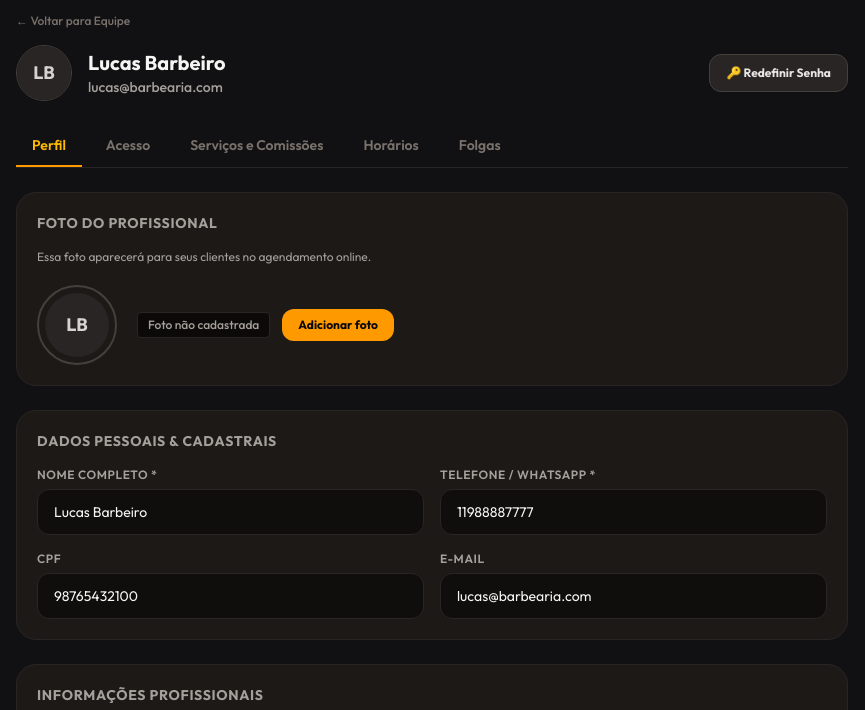
TEM BARBER — Gate P2-UX: Simplificação de Comissões › 2. Aplicação de modelo rápido preenche campo e mostra feedback sem salvar
Expected: the heading "Lucas Barbeiro" is shown, [88,49,226,77]
Click the button "Serviços e Comissões" at (257,146), box [174,125,339,167]
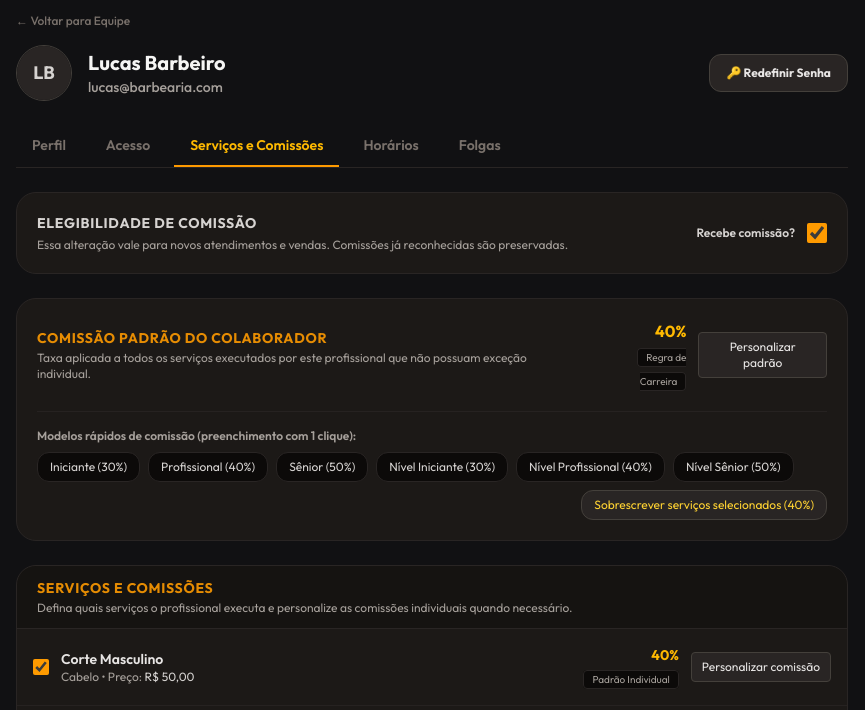
Result: the element with test id "commission-presets-section" is shown at [37,411,827,520]
Click the button "Sênior (50%)" at (322,467), box [276,452,368,482]
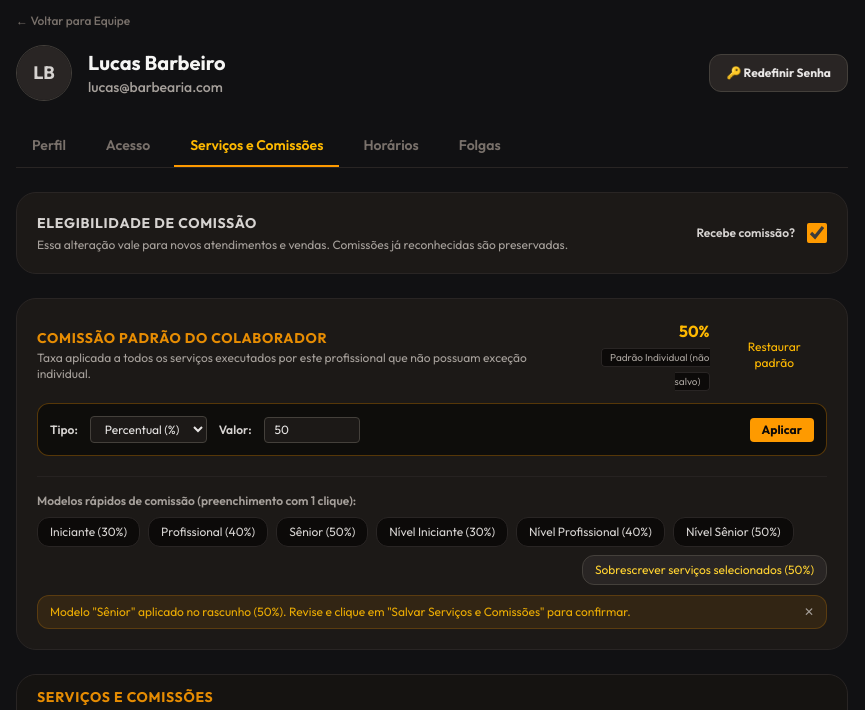
Result: the text with test id "member-default-rate" reads "50%" at [679,321,710,341]
Result: the text with test id "member-default-origin" reads "Padrão Individual (não salvo)" at [610,351,710,388]
Result: the text "Modelo \"Sênior\" aplicado no rascunho" is shown at [50,604,631,619]
